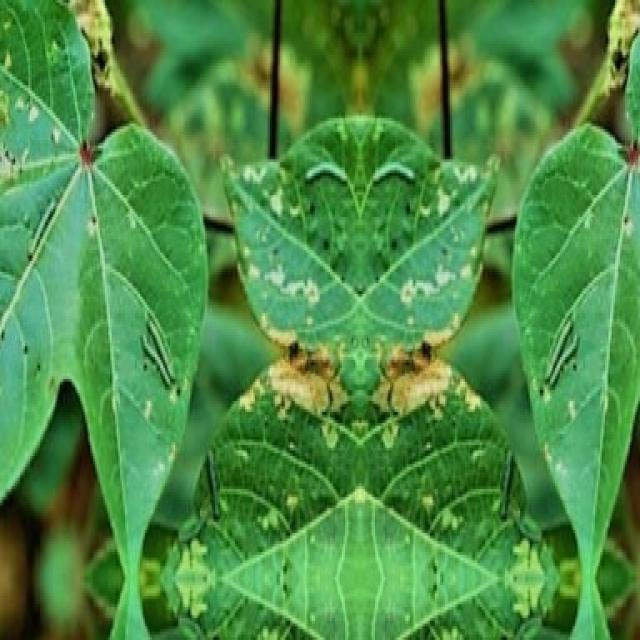armyworm: (138, 317, 179, 399), (546, 318, 582, 396), (303, 159, 350, 191), (371, 159, 416, 190)
